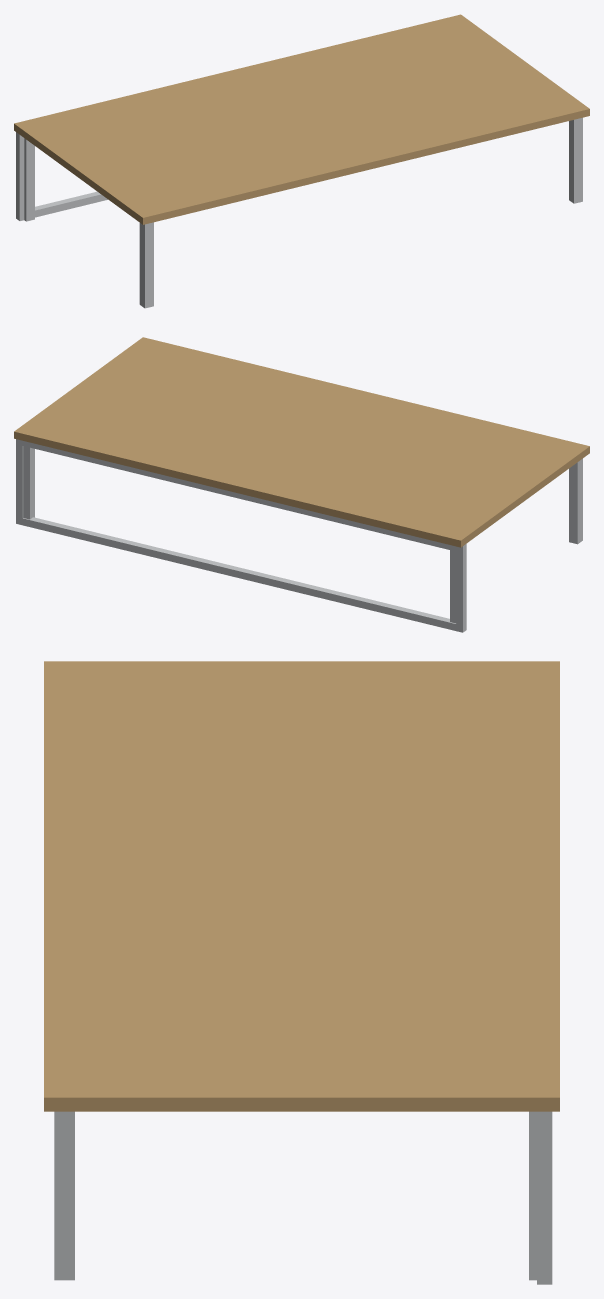
File: school.hall.stage_block.glb
The picture shows the model from 3 angles, top to bottom: view 1: azimuth 30°, elevation 25°; view 2: azimuth 150°, elevation 25°; view 3: azimuth 270°, elevation 25°; orthographic projection. The views are drawn at different scales.
Parts seen in each view (by area): view 1: main__plywood, main__aluminium; view 2: main__plywood, main__aluminium; view 3: main__plywood, main__aluminium.
Part boxes in pixels (left/top/right/bottom): main__plywood: left=14, top=14, right=589, bottom=224; main__aluminium: left=16, top=117, right=582, bottom=308; main__plywood: left=14, top=337, right=589, bottom=547; main__aluminium: left=16, top=439, right=582, bottom=632; main__plywood: left=44, top=661, right=559, bottom=1111; main__aluminium: left=54, top=1111, right=552, bottom=1284.
Size of the model in its own units: 2 by 0.4 by 1.
